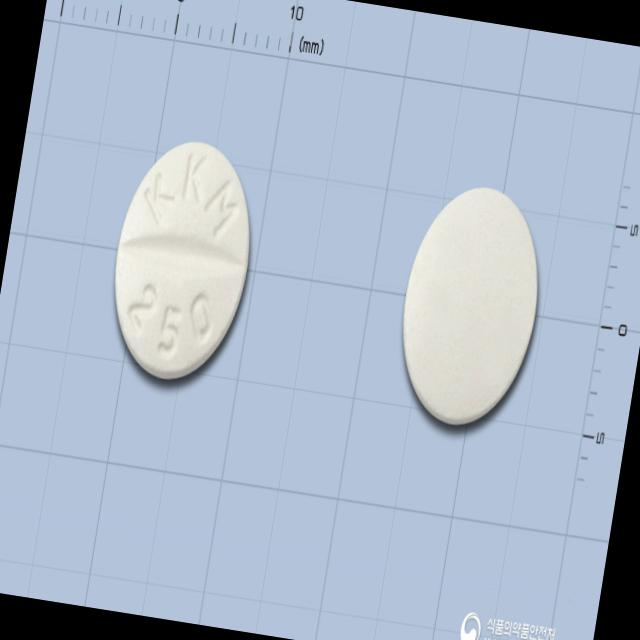Ciploxcin: (96, 125, 272, 398)
